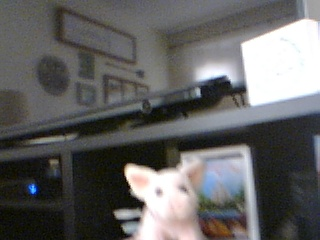piggy: (119, 155, 205, 240)
